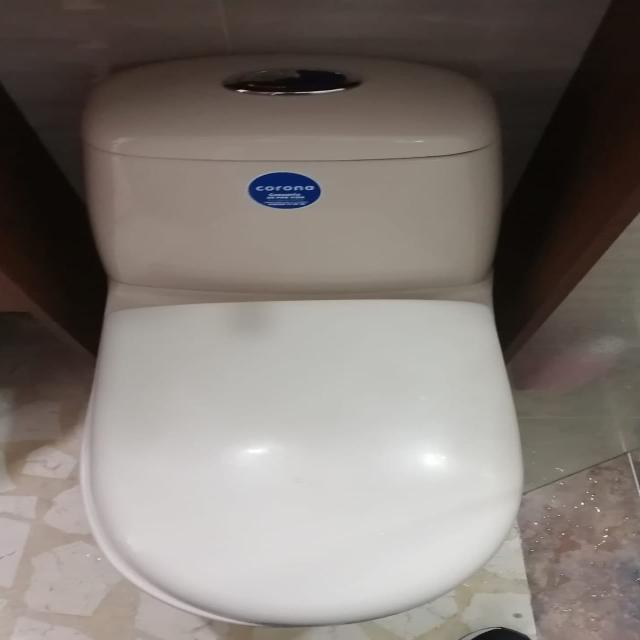toilet: (78, 52, 524, 628)
